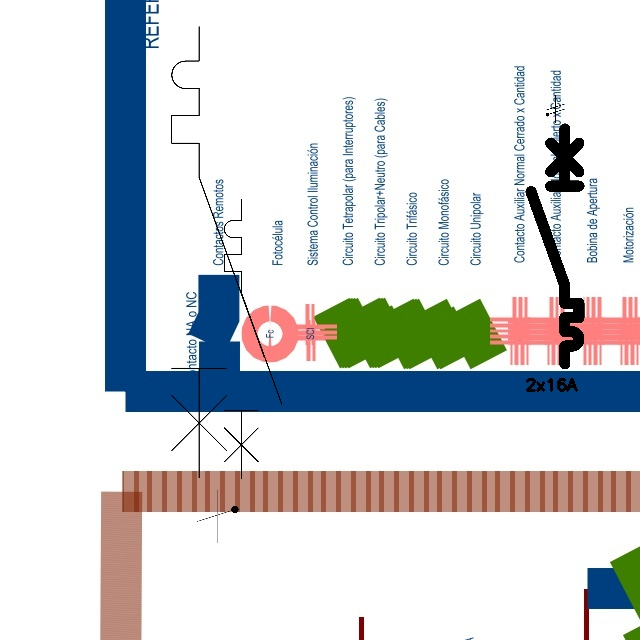interruptor_termomagnetico: (160, 15, 276, 489), (217, 192, 289, 486), (525, 123, 585, 370)
